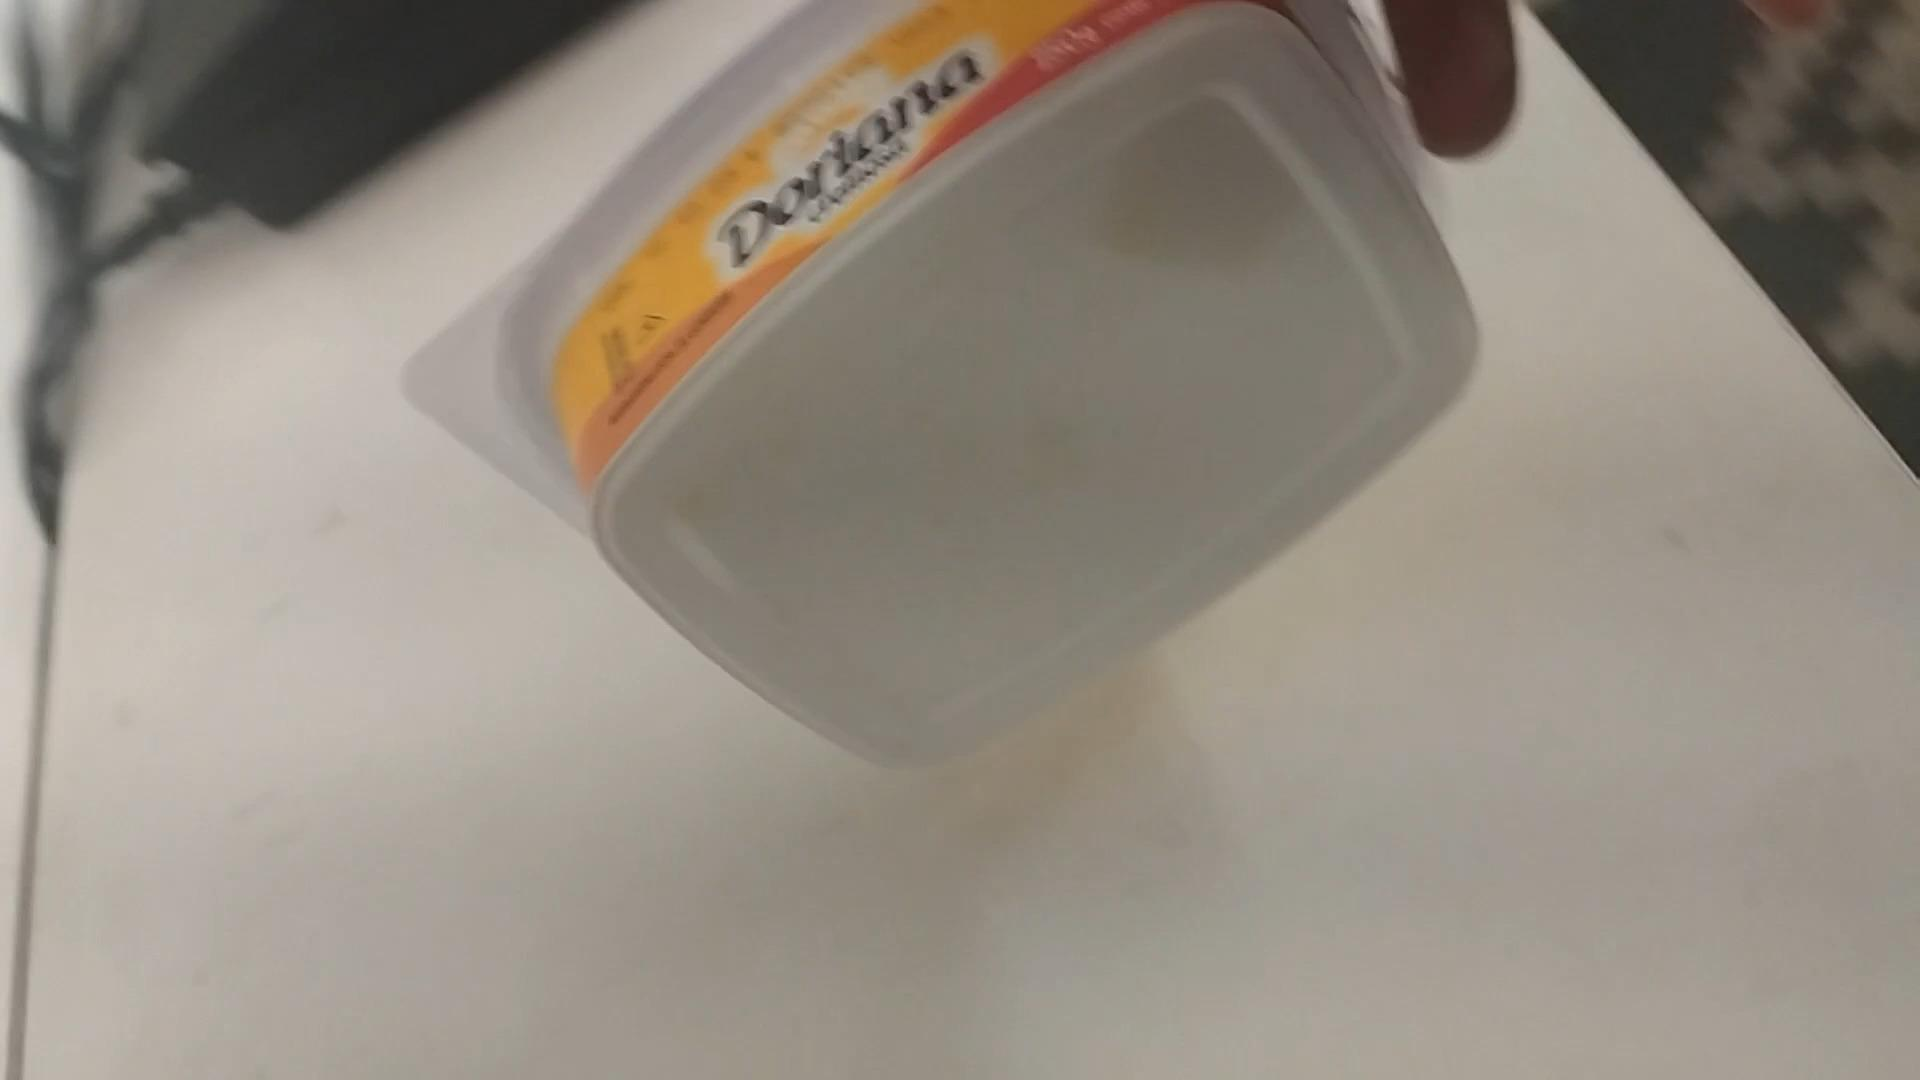butter: (400, 4, 1470, 774)
